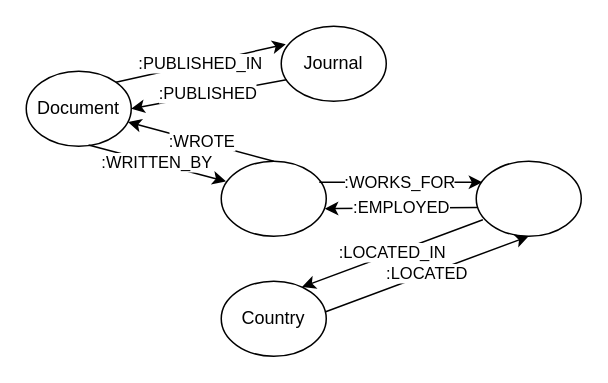
This 608x383 diagram has some shape labels left out. Each missing label, with the centre of its shape:
"Author" belongs at point 273,198.
"Institution" belongs at point 528,198.
